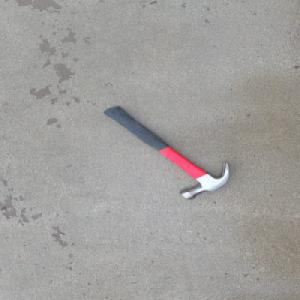Hammer: (100, 104, 232, 201)
